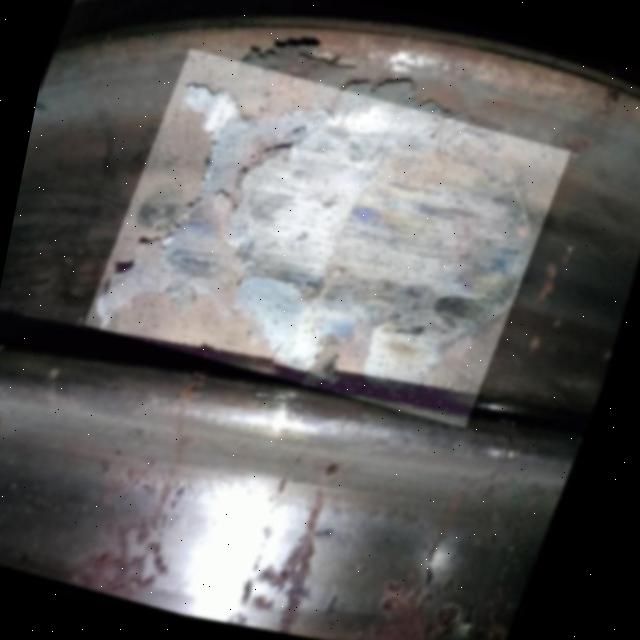Peeling: (83, 36, 583, 445)
